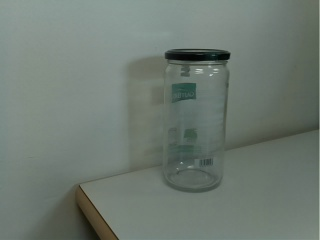pote cristal: (157, 45, 235, 194)
